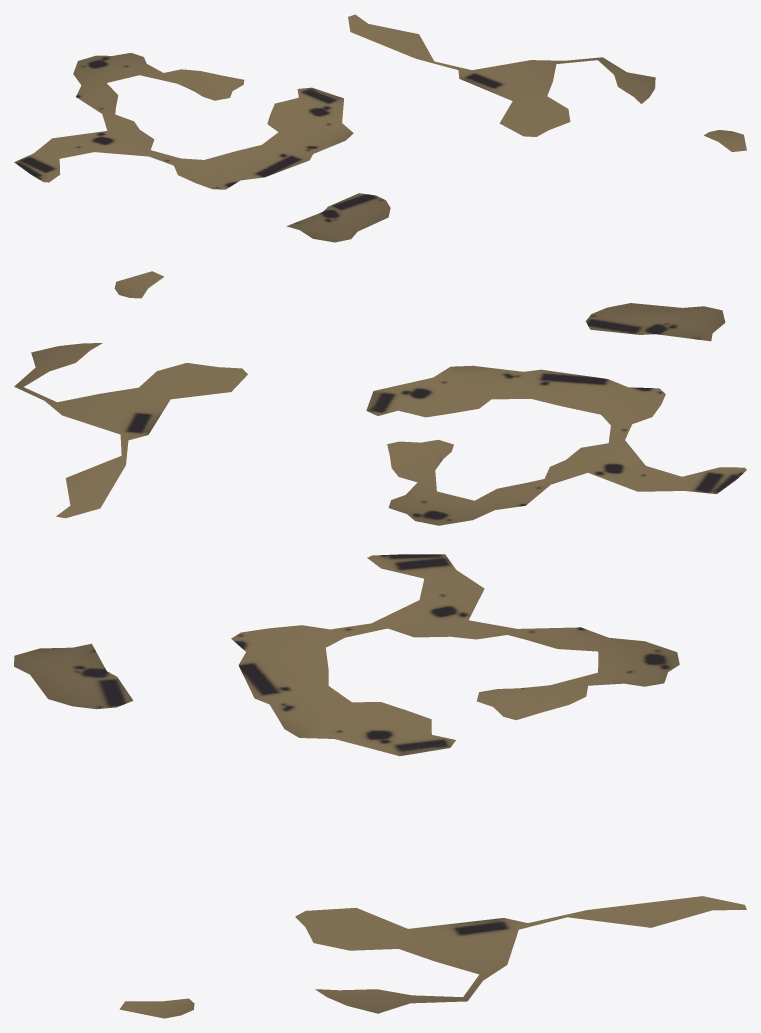
The model's file is Ground_05.FBX.
3 views of the same model, one above another, from view 1: azimuth 30°, elevation 25°; view 2: azimuth 150°, elevation 25°; view 3: azimuth 270°, elevation 25° (orthographic). The views are drawn at different scales.
Parts seen in each view (by area): view 1: Ground_05; view 2: Ground_05; view 3: Ground_05.
Part boxes in pixels (<box>): Ground_05: <box>14,14,746,242</box>; Ground_05: <box>14,271,746,525</box>; Ground_05: <box>14,554,746,1018</box>.
Size of the model in its own units: 36.72 by 2.66 by 28.28.
